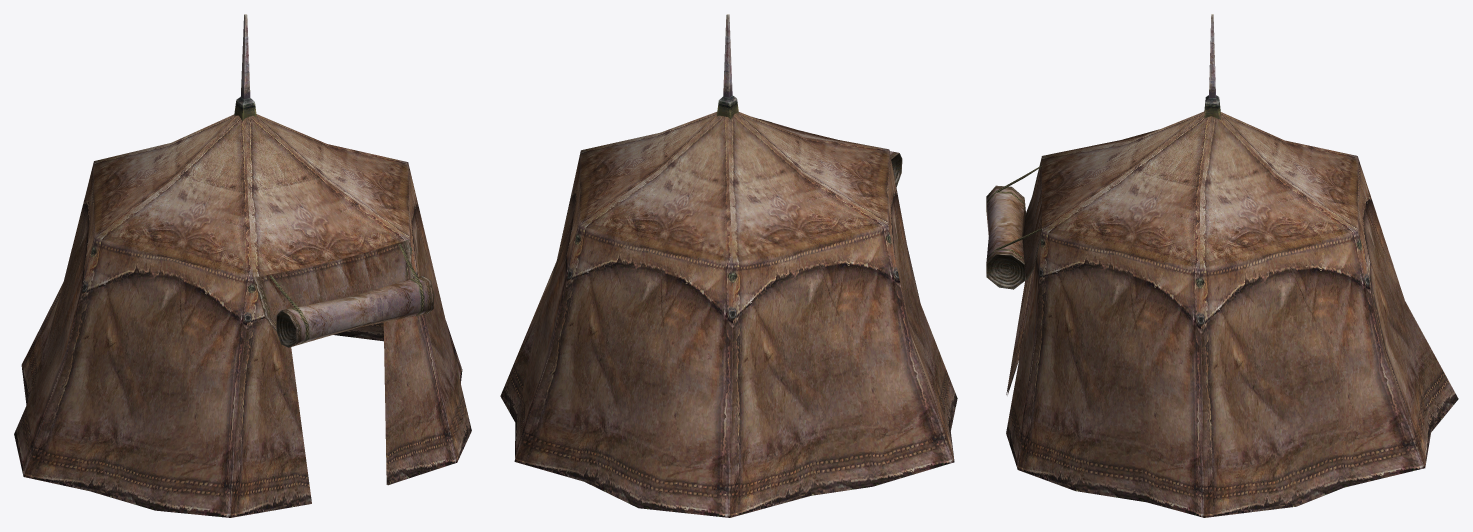
File: triton_tent_03.fbx
The picture shows the model from 3 angles, left to right: view 1: azimuth 30°, elevation 25°; view 2: azimuth 150°, elevation 25°; view 3: azimuth 270°, elevation 25°; orthographic projection.
Parts seen in each view (by area): view 1: kampus_patient_tent2; view 2: kampus_patient_tent2; view 3: kampus_patient_tent2.
Boxes of the visible parts, x1,y1,x2,y2 form: kampus_patient_tent2: (14,14,471,517); kampus_patient_tent2: (500,14,957,517); kampus_patient_tent2: (986,14,1458,517).
Bounding box in the file's own units: 10.82 × 9.51 × 10.16.
